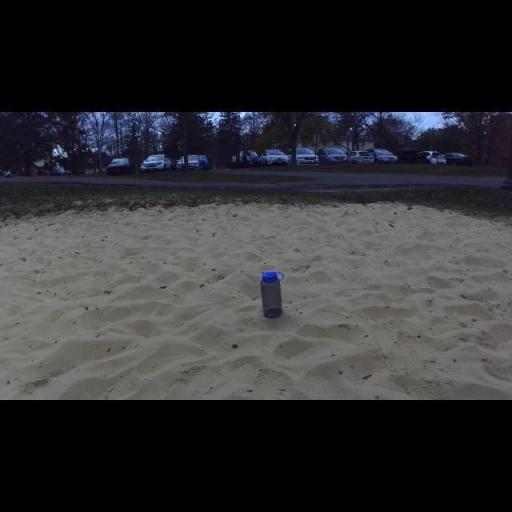bottle: (260, 270, 286, 320)
